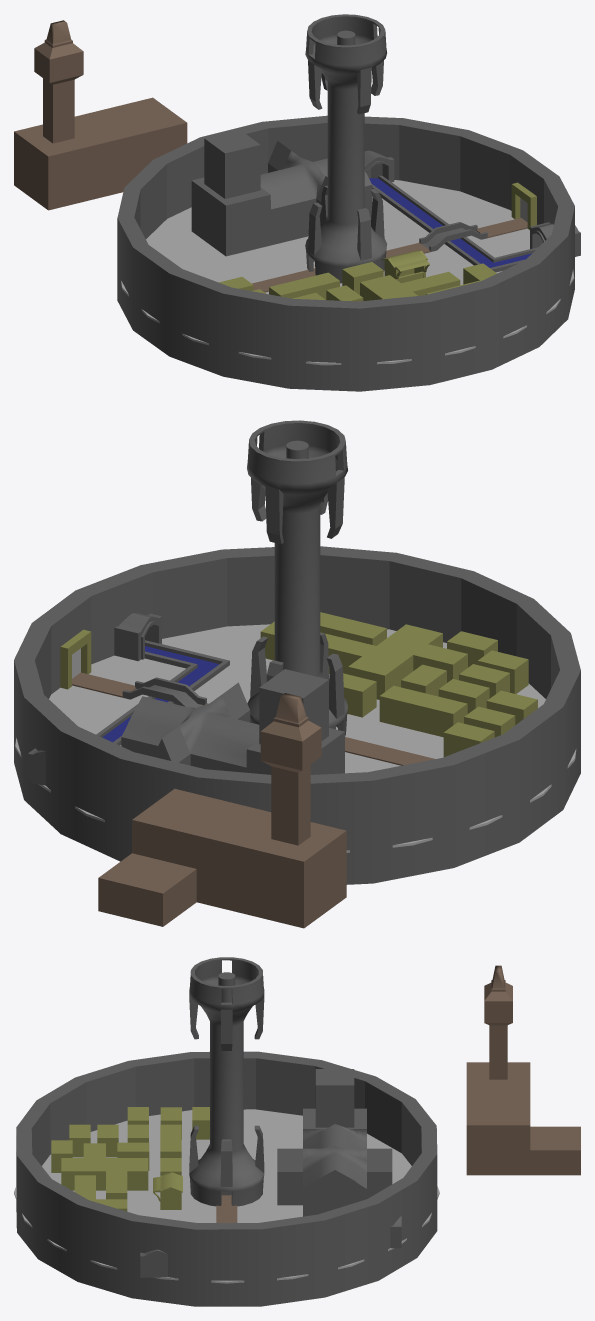
File: Town.fbx
The picture shows the model from 3 angles, top to bottom: view 1: azimuth 30°, elevation 25°; view 2: azimuth 150°, elevation 25°; view 3: azimuth 270°, elevation 25°; orthographic projection. The views are drawn at different scales.
Parts seen in each view (by area): view 1: pCylinder1, pCube3, pPipe1, pCube25, pCylinder2, pCube1, pCube8, pCube6, pCube4, pCube15, pCube22, pCube2 (+5 smaller); view 2: pCylinder1, pCube3, pPipe1, pCube25, pCylinder2, pCube8, pCube6, pCube1, pCube24, pCube14, pCube15, pCube22 (+11 smaller); view 3: pCylinder1, pPipe1, pCube3, pCube25, pCylinder2, pCube8, pCube4, pCube14, pCube24, pCube6, pCube11, pCube12 (+4 smaller).
Boxes of the visible parts, bbox=[...] form: pCylinder1: bbox=[117, 115, 574, 391]; pCube3: bbox=[14, 20, 187, 210]; pPipe1: bbox=[305, 14, 386, 283]; pCube25: bbox=[191, 129, 372, 256]; pCylinder2: bbox=[121, 180, 574, 365]; pCube1: bbox=[369, 175, 537, 272]; pCube8: bbox=[360, 271, 460, 300]; pCube6: bbox=[269, 272, 339, 299]; pCube4: bbox=[381, 250, 429, 283]; pCube15: bbox=[419, 222, 487, 251]; pCube22: bbox=[511, 182, 536, 229]; pCube2: bbox=[252, 243, 430, 292]; pCylinder1: bbox=[14, 546, 580, 884]; pCube3: bbox=[98, 693, 346, 928]; pPipe1: bbox=[247, 420, 347, 735]; pCube25: bbox=[121, 669, 344, 774]; pCylinder2: bbox=[15, 624, 576, 852]; pCube8: bbox=[325, 624, 467, 699]; pCube6: bbox=[379, 685, 467, 737]; pCube1: bbox=[96, 640, 229, 745]; pCube24: bbox=[114, 613, 161, 661]; pCube14: bbox=[260, 612, 386, 660]; pCube15: bbox=[122, 677, 206, 708]; pCube22: bbox=[60, 629, 91, 689]; pCylinder1: bbox=[16, 1051, 437, 1306]; pPipe1: bbox=[189, 957, 264, 1206]; pCube3: bbox=[466, 965, 580, 1175]; pCube25: bbox=[277, 1069, 392, 1216]; pCylinder2: bbox=[14, 1109, 439, 1283]; pCube8: bbox=[61, 1143, 148, 1199]; pCube4: bbox=[153, 1172, 182, 1209]; pCube14: bbox=[74, 1175, 127, 1211]; pCube24: bbox=[140, 1249, 167, 1277]; pCube6: bbox=[160, 1124, 181, 1157]; pCube11: bbox=[97, 1124, 118, 1157]; pCube12: bbox=[69, 1124, 90, 1157].
Bounding box in the file's own units: 20 × 12.72 × 26.64.
